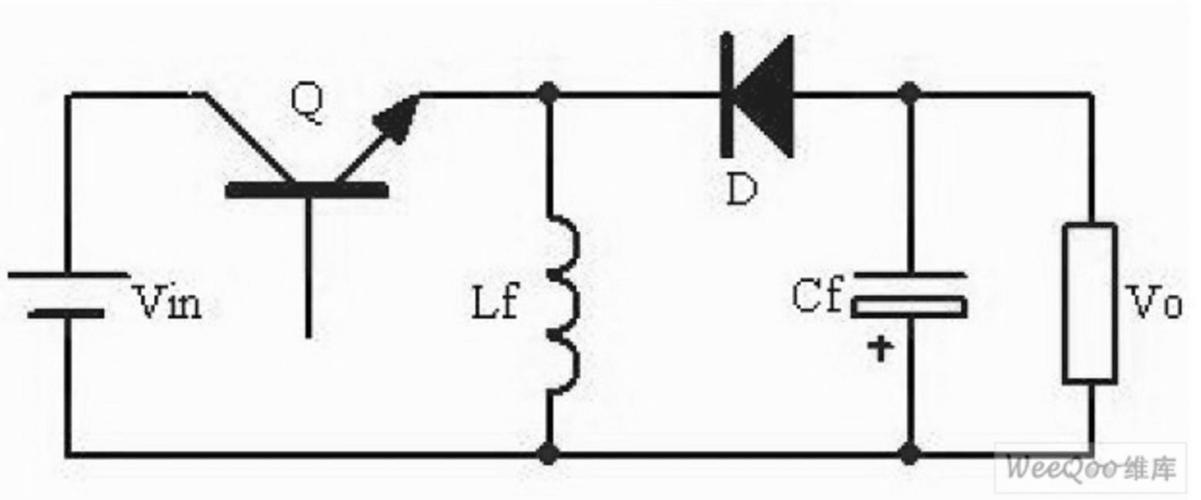cap1: (845, 263, 974, 331)
diode: (712, 26, 805, 165)
inductance: (532, 199, 585, 405)
power2: (1, 260, 143, 327)
res1: (1057, 215, 1123, 393)
triode: (180, 81, 440, 217)
